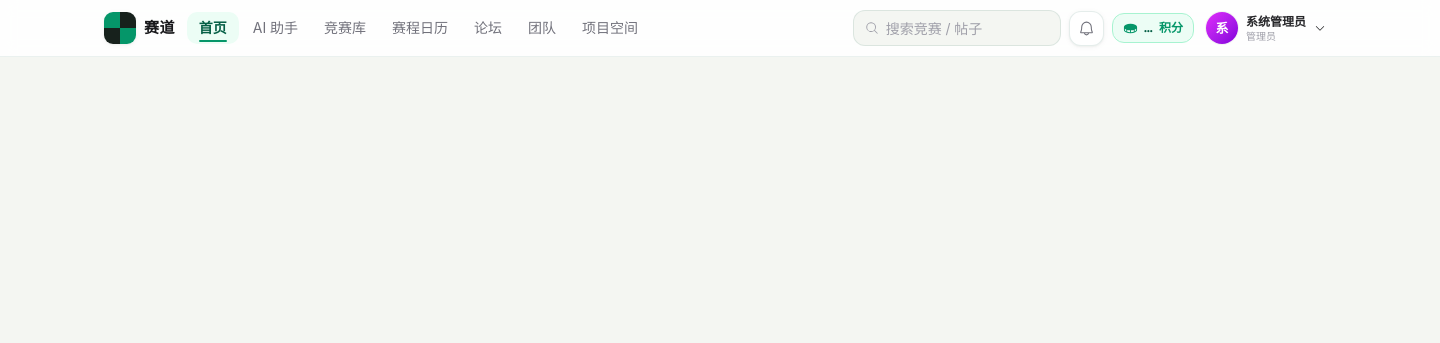
it: 主站导航（管理员登录） › 桌面用户菜单里没有「管理后台」入口，其它菜单项照常
This screenshot has width=1440, height=343.
Step 1. Click the button titled "系统管理员" → (1269, 28), box [1202,8,1336,48]
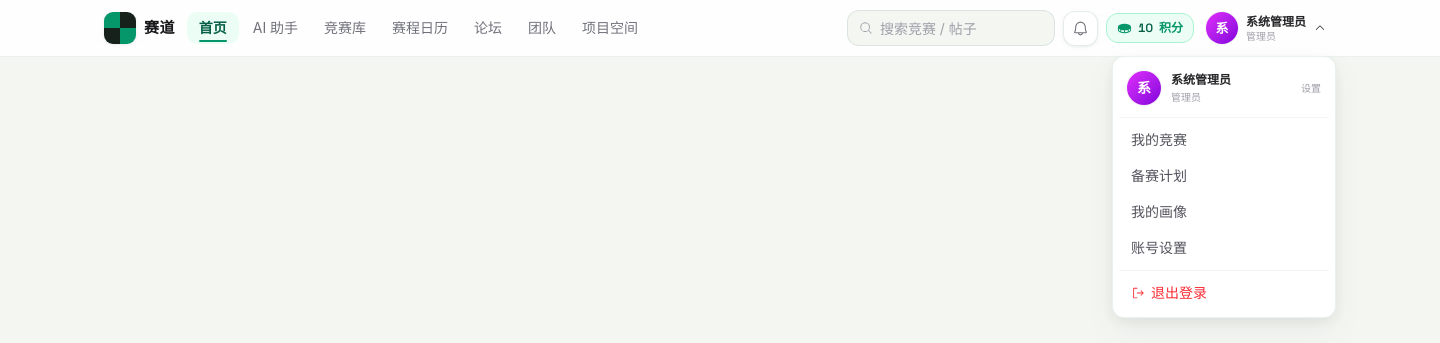
Result: the link "我的画像" is shown at [1131,203,1187,220]
Result: the button "退出登录" is shown at [1119,275,1329,311]
